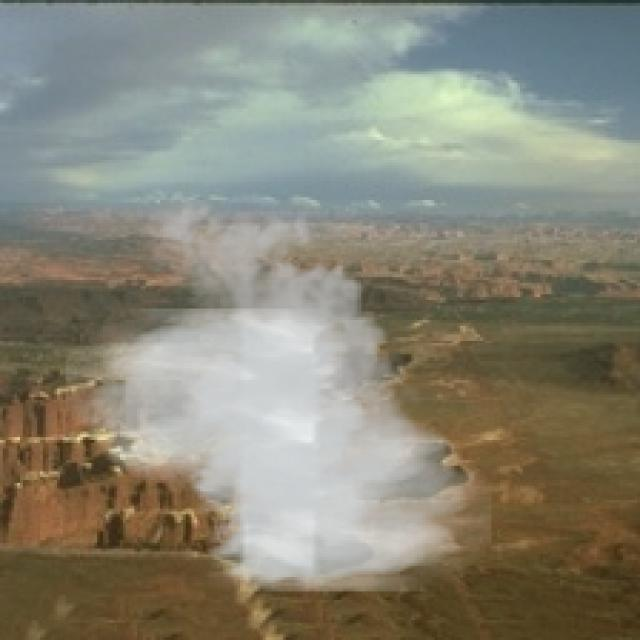smoke: (66, 188, 491, 592)
